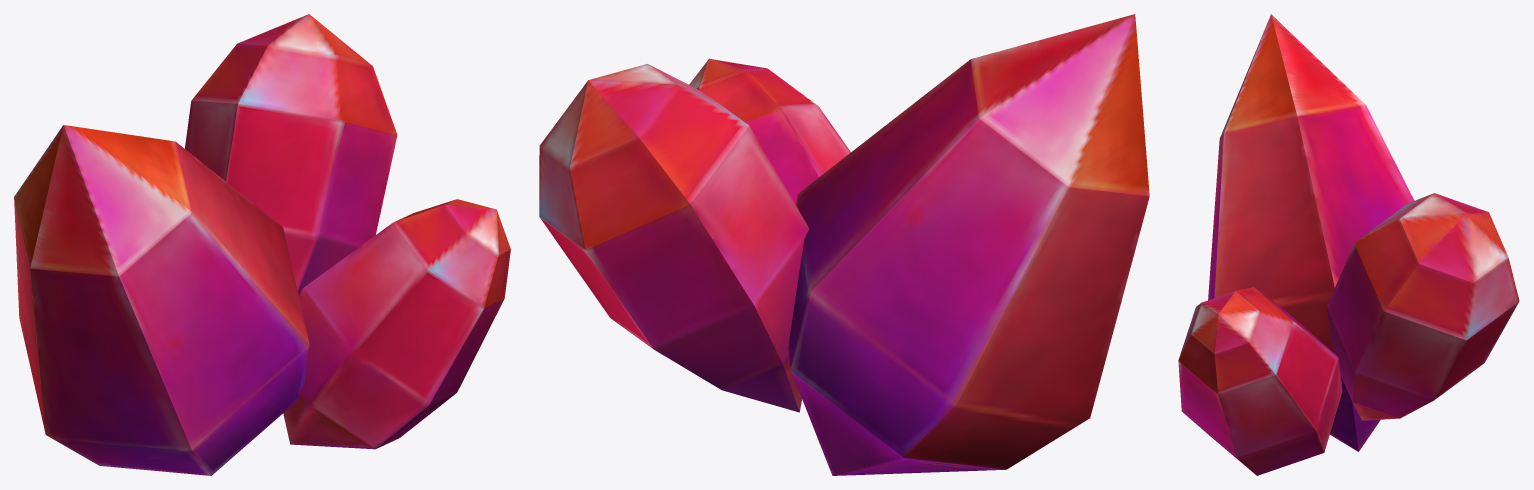
The model's file is shuijing.fbx.
3 views of the same model, side by side, from view 1: azimuth 30°, elevation 25°; view 2: azimuth 150°, elevation 25°; view 3: azimuth 270°, elevation 25° (orthographic). The views are drawn at different scales.
Visible parts, largest first — view 1: shuijing; view 2: shuijing; view 3: shuijing.
Part boxes in pixels (left/top/right/bottom): shuijing: left=14, top=14, right=510, bottom=475; shuijing: left=539, top=14, right=1149, bottom=475; shuijing: left=1178, top=14, right=1519, bottom=475.
Size of the model in its own units: 0.3787 by 0.3442 by 0.3034.
Materials: 1 (1 with a texture image).
